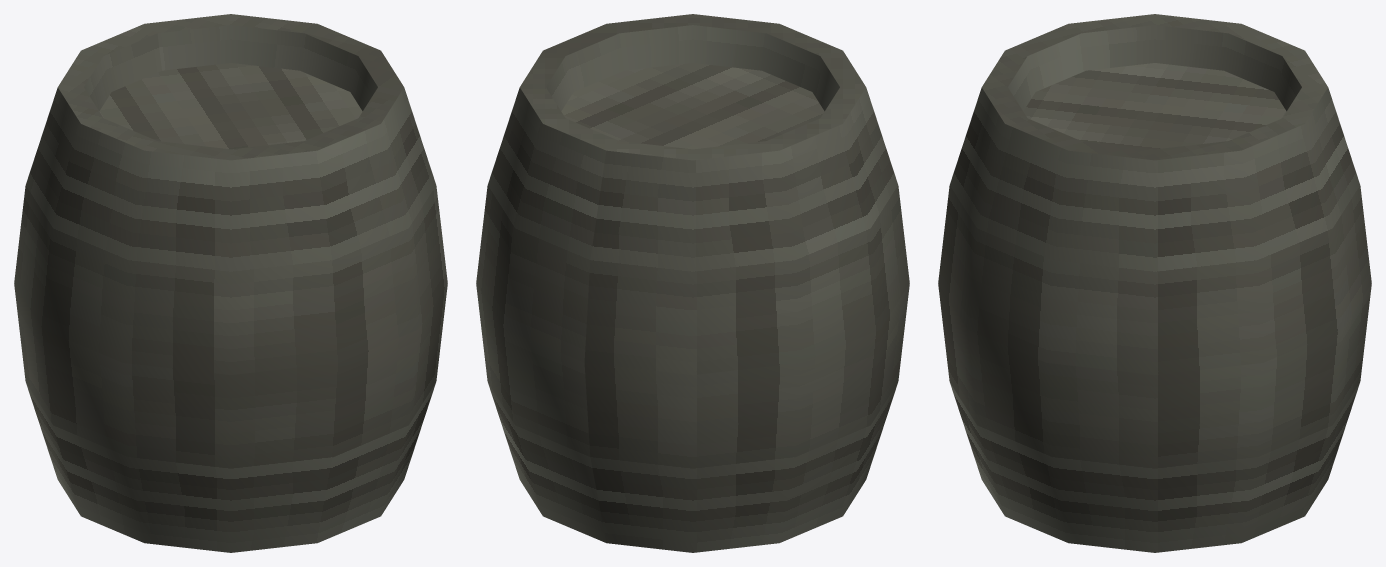
File: Barrel_Basic.fbx
3 views of the same model, side by side, from view 1: azimuth 30°, elevation 25°; view 2: azimuth 150°, elevation 25°; view 3: azimuth 270°, elevation 25° (orthographic).
Visible parts, largest first — view 1: Barrel_Basic; view 2: Barrel_Basic; view 3: Barrel_Basic.
Part boxes in pixels (box(x1,y1,x2,y2)): Barrel_Basic: box(14, 14, 447, 552); Barrel_Basic: box(476, 14, 909, 552); Barrel_Basic: box(938, 14, 1371, 552).
Bounding box in the file's own units: 7.51 × 7.5 × 7.51.
